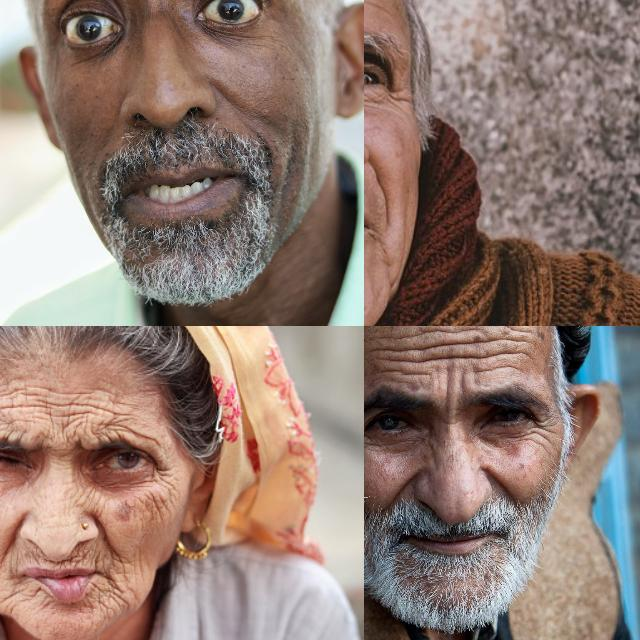bunny_line: (71, 488, 101, 512)
chin: (94, 596, 124, 622), (34, 586, 51, 612)
crows_feet: (385, 87, 407, 119), (532, 418, 556, 446), (154, 462, 176, 492)
forehead: (450, 326, 490, 370), (497, 326, 530, 373), (412, 328, 446, 366), (49, 391, 89, 423), (4, 380, 46, 410), (376, 338, 410, 372), (97, 403, 135, 431), (364, 0, 386, 18)
frown_line: (42, 426, 80, 452), (440, 381, 456, 413)
gummy_smile: (368, 160, 392, 218), (489, 470, 518, 504), (391, 471, 414, 511), (96, 519, 118, 557), (3, 521, 20, 561)
masseter: (142, 498, 178, 524), (398, 208, 408, 266)
sad_smile: (365, 223, 387, 253), (2, 582, 28, 602), (100, 570, 118, 592)
smoker_lines: (26, 546, 48, 568), (70, 546, 88, 568)
